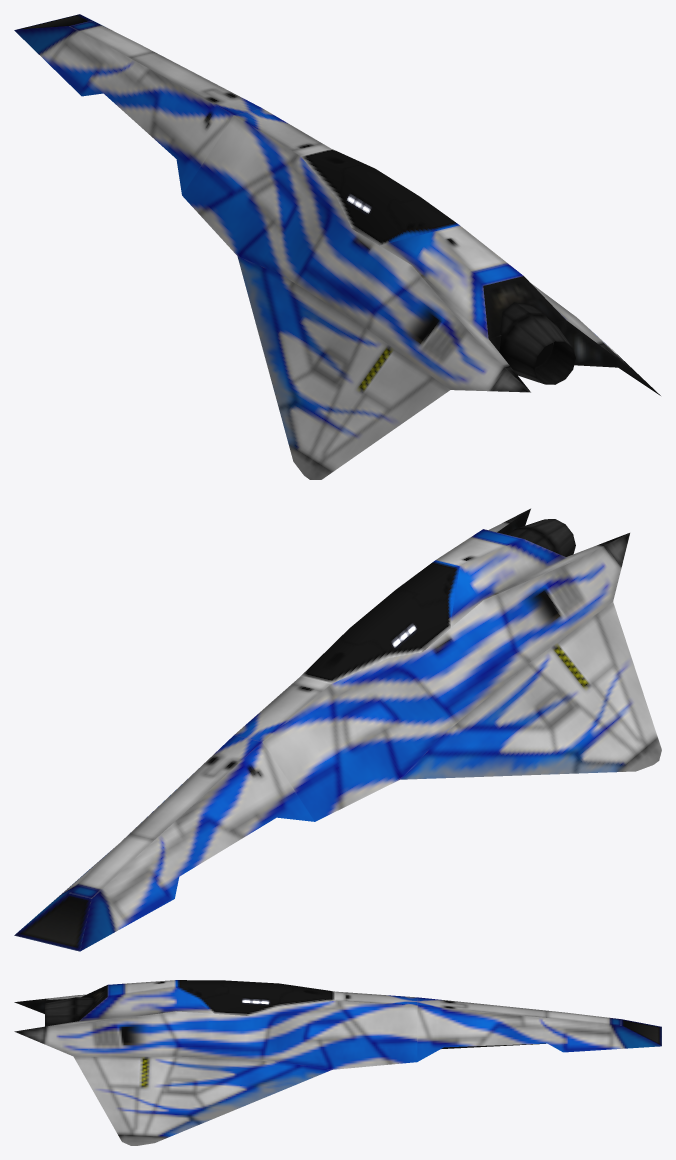
File: Tenrai.FBX
3 views of the same model, one above another, from view 1: azimuth 30°, elevation 25°; view 2: azimuth 150°, elevation 25°; view 3: azimuth 270°, elevation 25° (orthographic). The views are drawn at different scales.
Parts seen in each view (by area): view 1: tenrai_tR; view 2: tenrai_tR; view 3: tenrai_tR.
Part boxes in pixels (x1,y1,x2,y2): tenrai_tR: [14, 14, 660, 479]; tenrai_tR: [14, 508, 661, 951]; tenrai_tR: [14, 980, 661, 1145].
Size of the model in its own units: 5.74 by 2.86 by 15.2.
